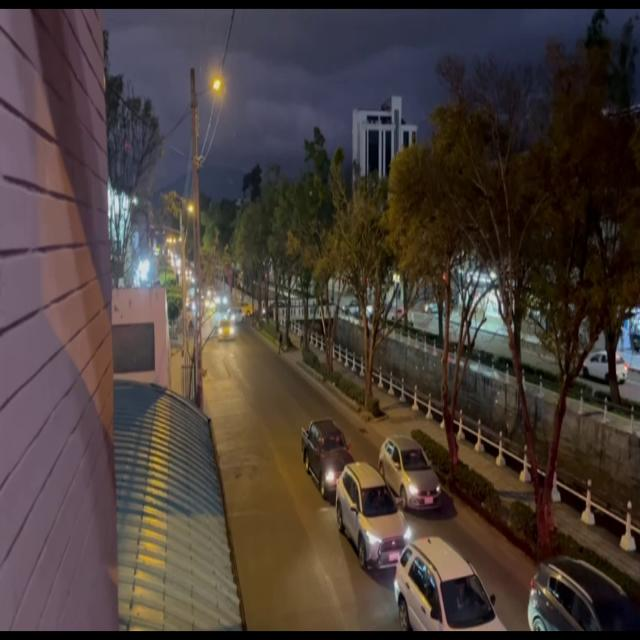CMT: (306, 421, 353, 496)
SUV: (338, 469, 402, 571)
